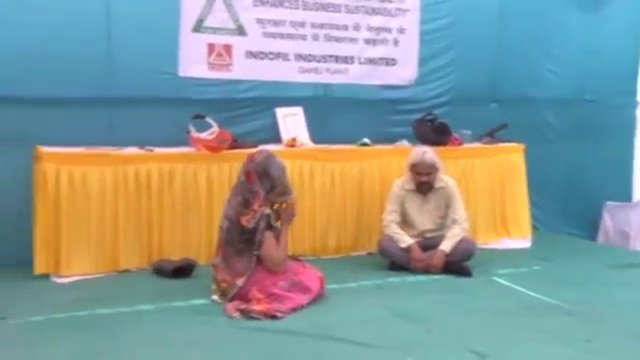helmet_off: (238, 153, 292, 203), (410, 150, 441, 198)
person: (210, 149, 327, 320), (377, 145, 477, 281)
